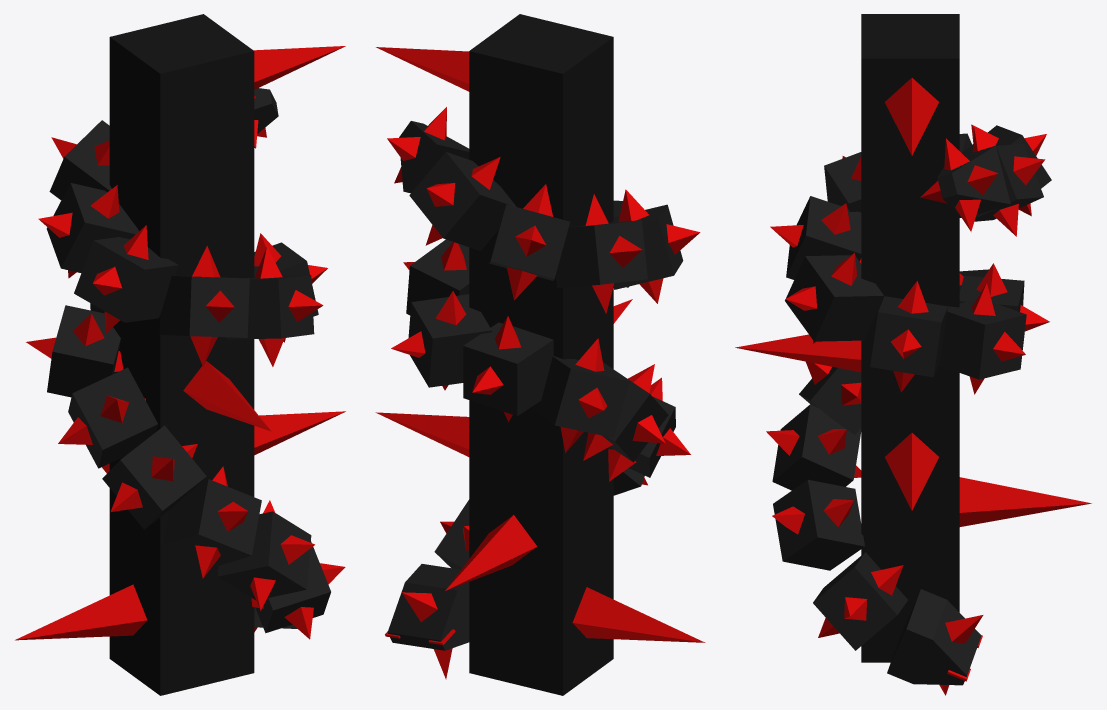
Rendered from Trap-2.fbx.
3 renders of one model, left to right at view 1: azimuth 30°, elevation 25°; view 2: azimuth 150°, elevation 25°; view 3: azimuth 270°, elevation 25°, orthographic. The views are drawn at different scales.
Visible parts, largest first — view 1: Cube, pCube17 (×13), pPyramid53 (×7), pPyramid60, pPyramid55 (×5), pPyramid61, pPyramid58, pPyramid57, pPyramid56; view 2: Cube, pCube17 (×13), Head, pPyramid53 (×8), pPyramid60, pPyramid55 (×6), pPyramid59, pPyramid57, pPyramid58, Horn, pPyramid56; view 3: Cube, pCube17 (×13), Head, pPyramid59, pPyramid61, pPyramid57, pPyramid58, pPyramid55 (×3), Horn, pPyramid53.
Part boxes in pixels (x1,y1,x2,y2): Cube: (109, 14, 254, 695); pCube17 (×13): (46, 88, 330, 633); pPyramid53 (×7): (38, 212, 323, 564); pPyramid60: (15, 584, 147, 640); pPyramid55 (×5): (73, 185, 174, 481); pPyramid61: (183, 361, 271, 431); pPyramid58: (254, 46, 345, 89); pPyramid57: (254, 411, 345, 455); pPyramid56: (284, 607, 313, 639); Cube: (469, 14, 613, 695); pCube17 (×13): (399, 121, 683, 569); Head: (387, 564, 469, 650); pPyramid53 (×8): (426, 183, 700, 455); pPyramid60: (572, 587, 705, 642); pPyramid55 (×6): (387, 137, 649, 371); pPyramid59: (445, 515, 537, 590); pPyramid57: (375, 412, 469, 456); pPyramid58: (376, 47, 469, 91); Horn: (402, 592, 437, 622); pPyramid56: (506, 267, 537, 300); Cube: (861, 14, 959, 662); pCube17 (×13): (772, 125, 1051, 650); Head: (887, 589, 981, 685); pPyramid59: (959, 477, 1091, 526); pPyramid61: (735, 334, 861, 372); pPyramid57: (885, 433, 938, 510); pPyramid58: (885, 78, 938, 155); pPyramid55 (×3): (821, 203, 928, 595); Horn: (945, 615, 983, 643); pPyramid53: (1013, 156, 1045, 185).
Bounding box in the file's own units: 9.09 × 16.8 × 8.75.
